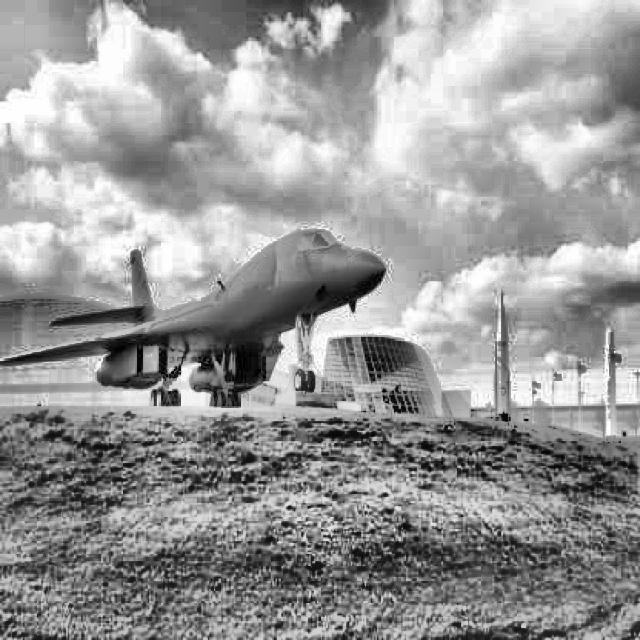B1: (0, 229, 386, 408)
